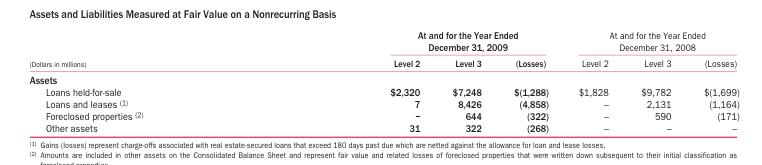table: (28, 28, 738, 133)
table column: (28, 28, 266, 133), (266, 28, 435, 133), (497, 28, 562, 133), (435, 28, 497, 133), (562, 28, 624, 133), (624, 28, 686, 133), (686, 28, 738, 133)
table column header: (28, 28, 738, 70)
table projected row header: (28, 70, 738, 85)
table row: (28, 28, 738, 55), (28, 55, 738, 70), (28, 70, 738, 85), (28, 85, 738, 97), (28, 97, 738, 109), (28, 109, 738, 121), (28, 121, 738, 133)
table spanning cell: (28, 28, 266, 70), (266, 28, 562, 55), (562, 28, 738, 55)
